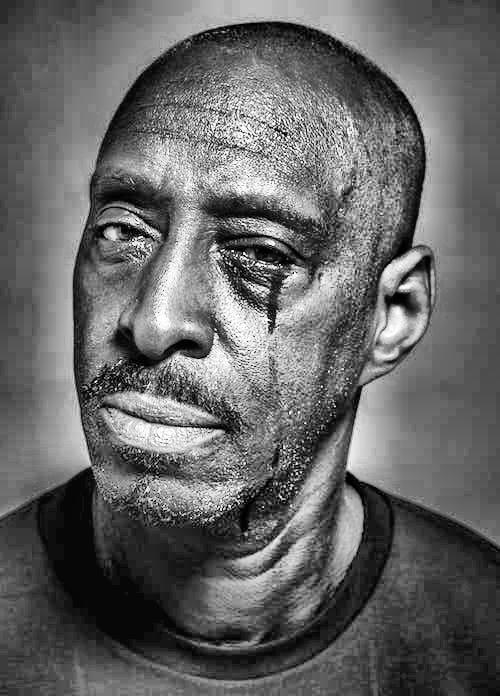sad: (37, 37, 443, 600)
